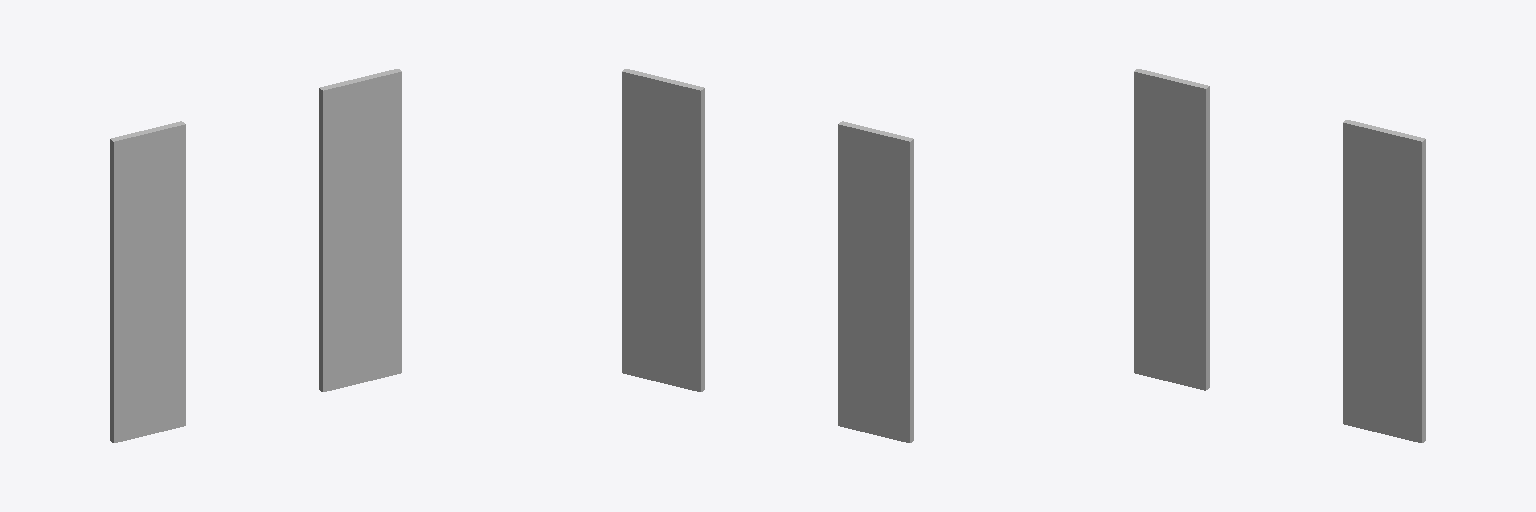
File: wall door 2.obj
The picture shows the model from 3 angles: view 1: azimuth 30°, elevation 25°; view 2: azimuth 150°, elevation 25°; view 3: azimuth 330°, elevation 25°; orthographic projection.
Parts seen in each view (by area): view 1: object 1; view 2: object 1; view 3: object 1.
Part boxes in pixels (x1,y1,x2,y2): object 1: (110,69,401,442); object 1: (622,69,913,442); object 1: (1134,69,1425,442).
Size of the model in its own units: 4 by 4 by 0.1.